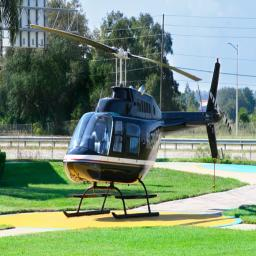helicopter: (41, 25, 228, 228)
